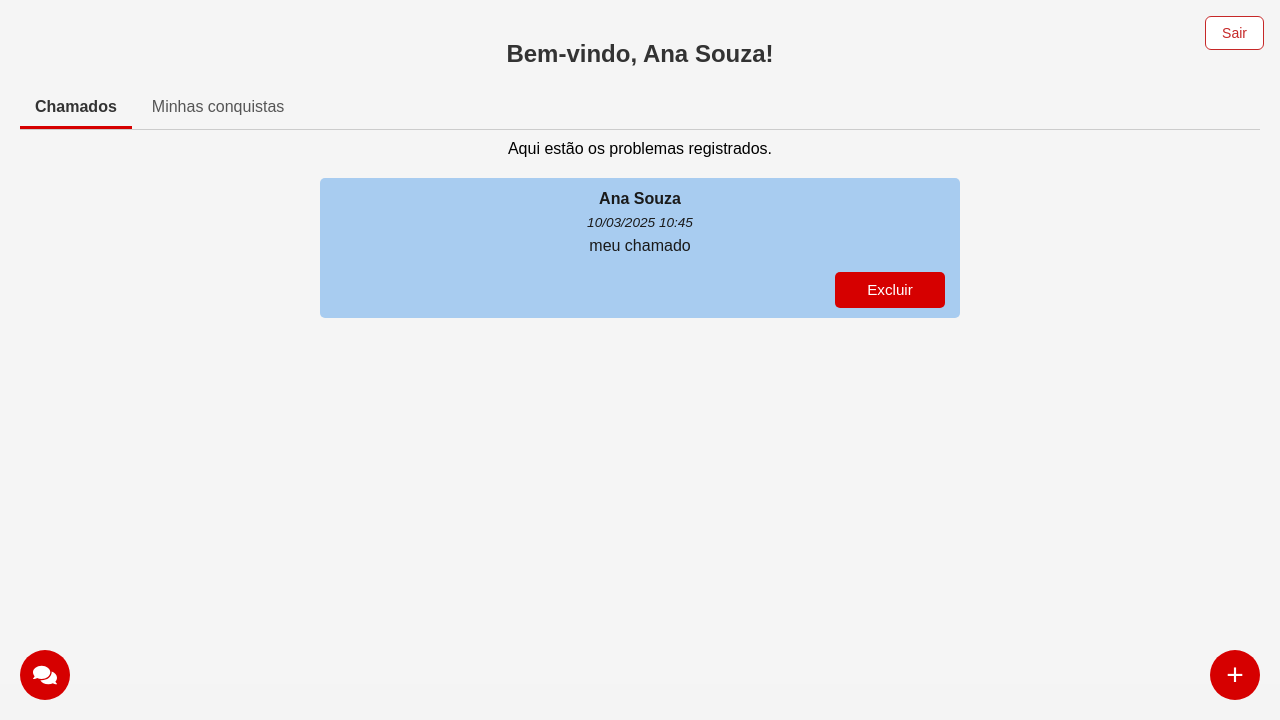
Test case: TelaAluno — exclusão (AC-CHAMADO-04 e AC-CHAMADO-05) › NÃO exclui enquanto a confirmação não vem — nem pelo `window.confirm`
What coordinates should you click on to do the following:
click the button "Excluir"
I would click on:
 (890, 290)
Its box is [835, 272, 945, 308].
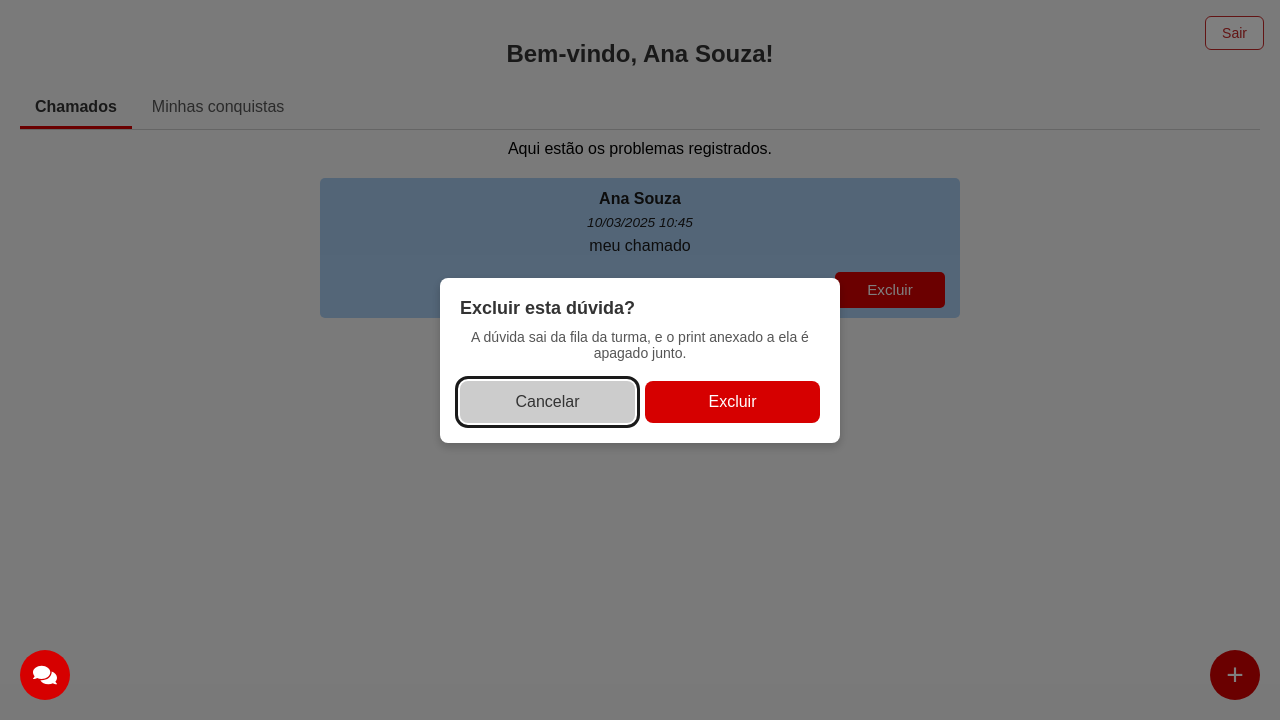
Expected: the text "meu chamado" is shown, [589, 237, 691, 254]
Result: the dialog is shown at [440, 278, 840, 442]
